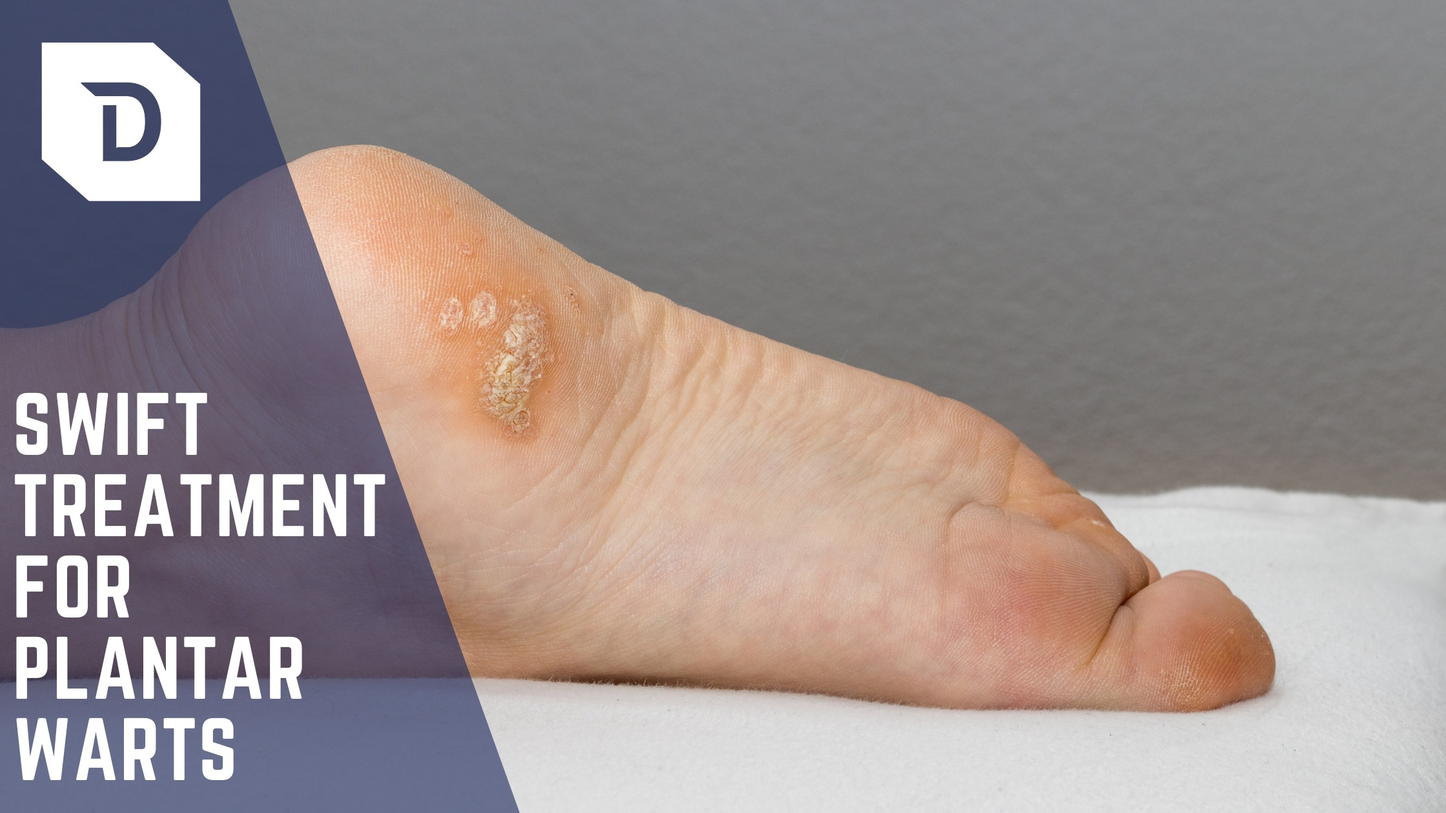Warts: (388, 251, 578, 453)
